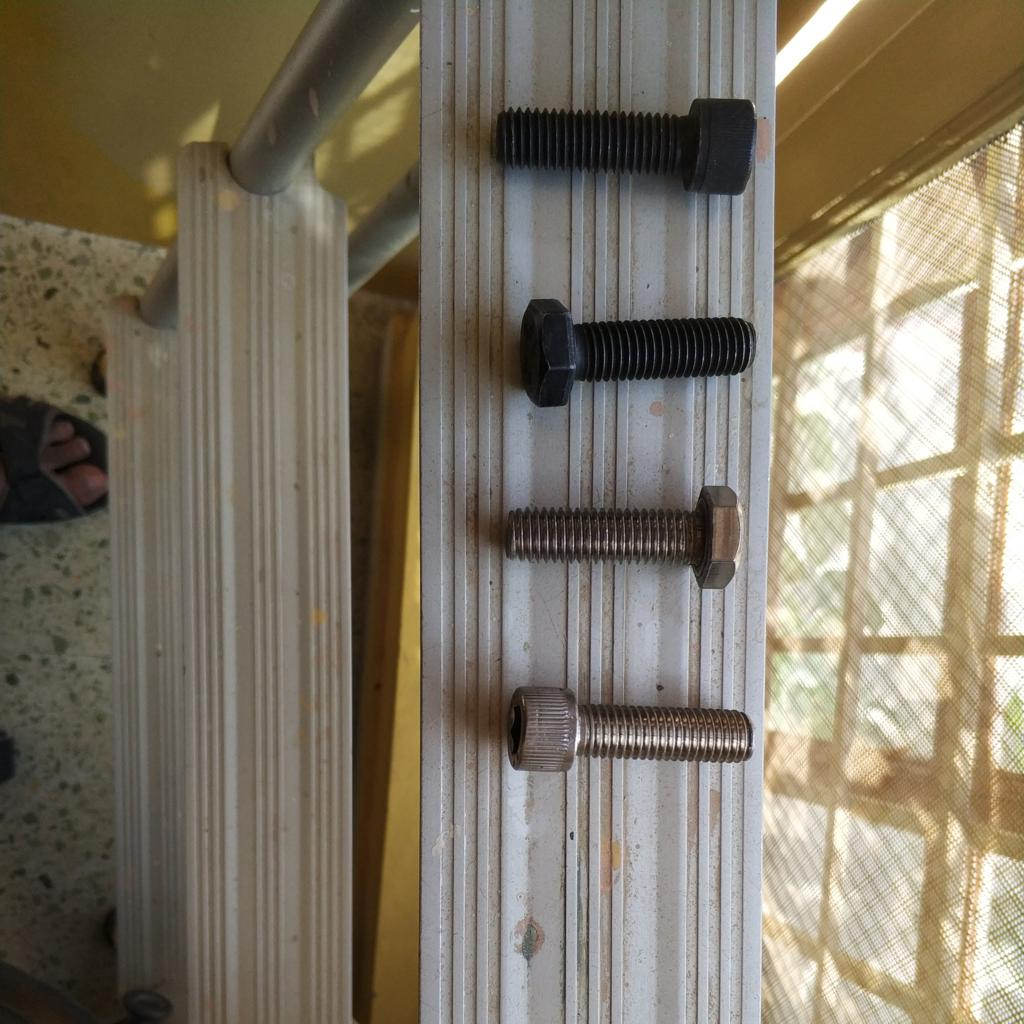screwtype1black: (486, 87, 760, 204)
screwtype1silver: (503, 677, 759, 782)
screwtype2black: (517, 287, 757, 405)
screwtype2silver: (505, 480, 742, 598)
